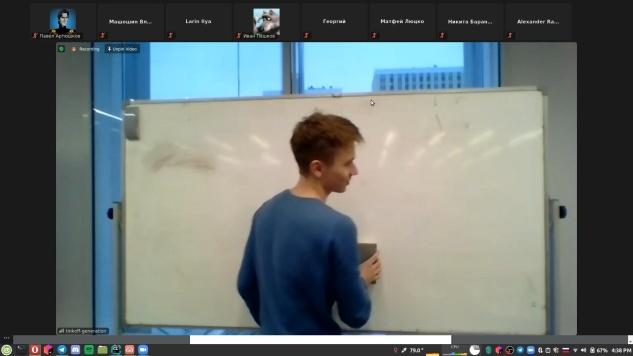Whiteboard: (121, 84, 550, 333)
